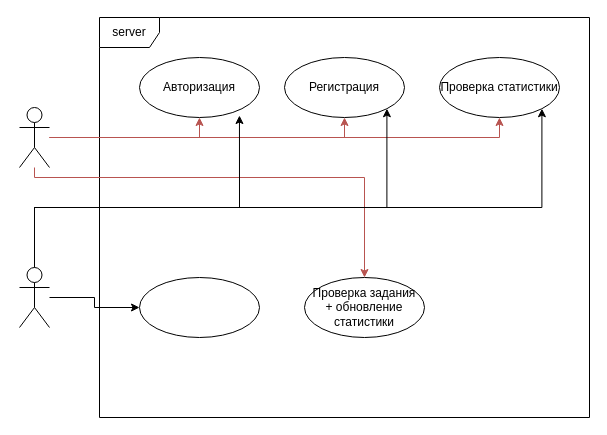
Image size: 607x435. Some labels were removed from this diagram. The box of each missing label's shape, as (x1, y1, x2, y2) in pixels:
Admin: (18, 106, 50, 168)
User: (18, 266, 50, 328)
Загрузка задания: (138, 276, 260, 338)
